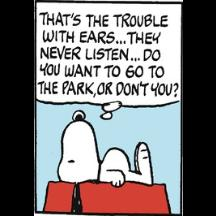snoopy: (55, 109, 153, 216)
